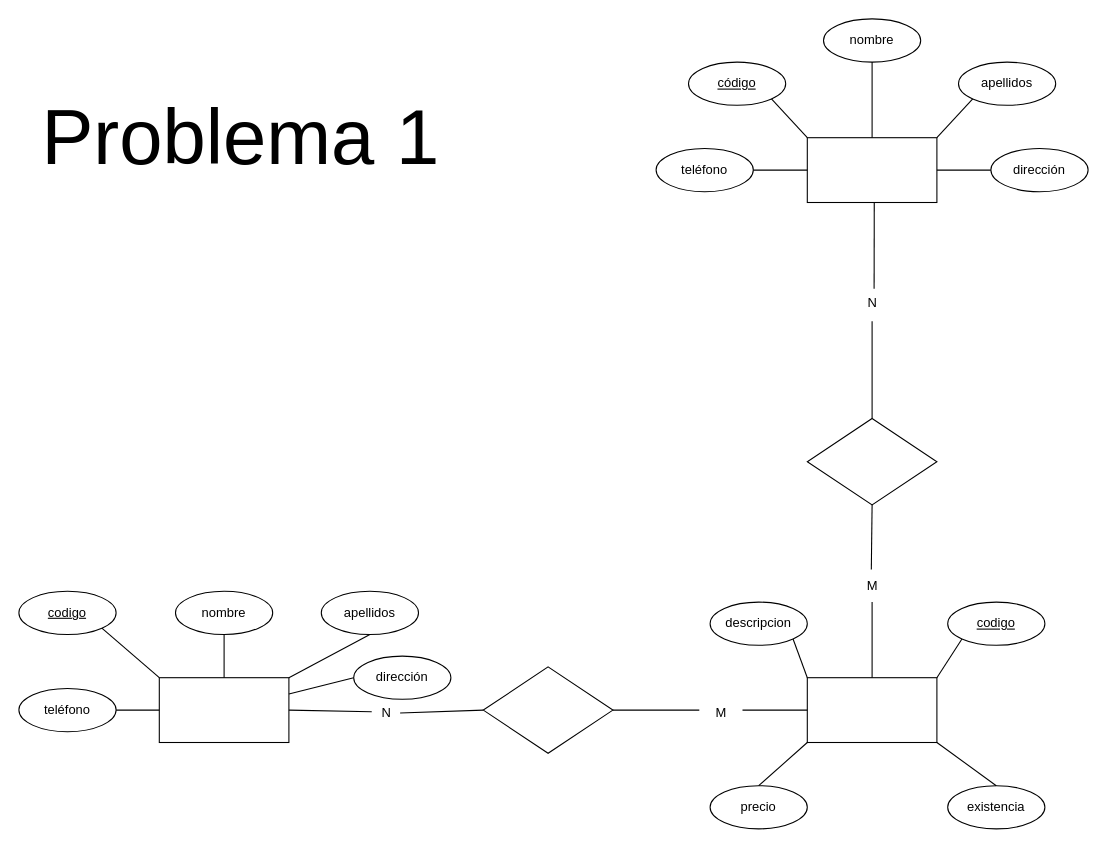
Image size: 1107x848. Some labels were removed from this diagram. Each missing label, with the box of its shape:
Cliente: (158, 677, 289, 742)
compra: (482, 666, 613, 753)
Producto: (806, 677, 937, 742)
Proveedor: (806, 137, 937, 202)
suministra: (806, 417, 937, 505)
